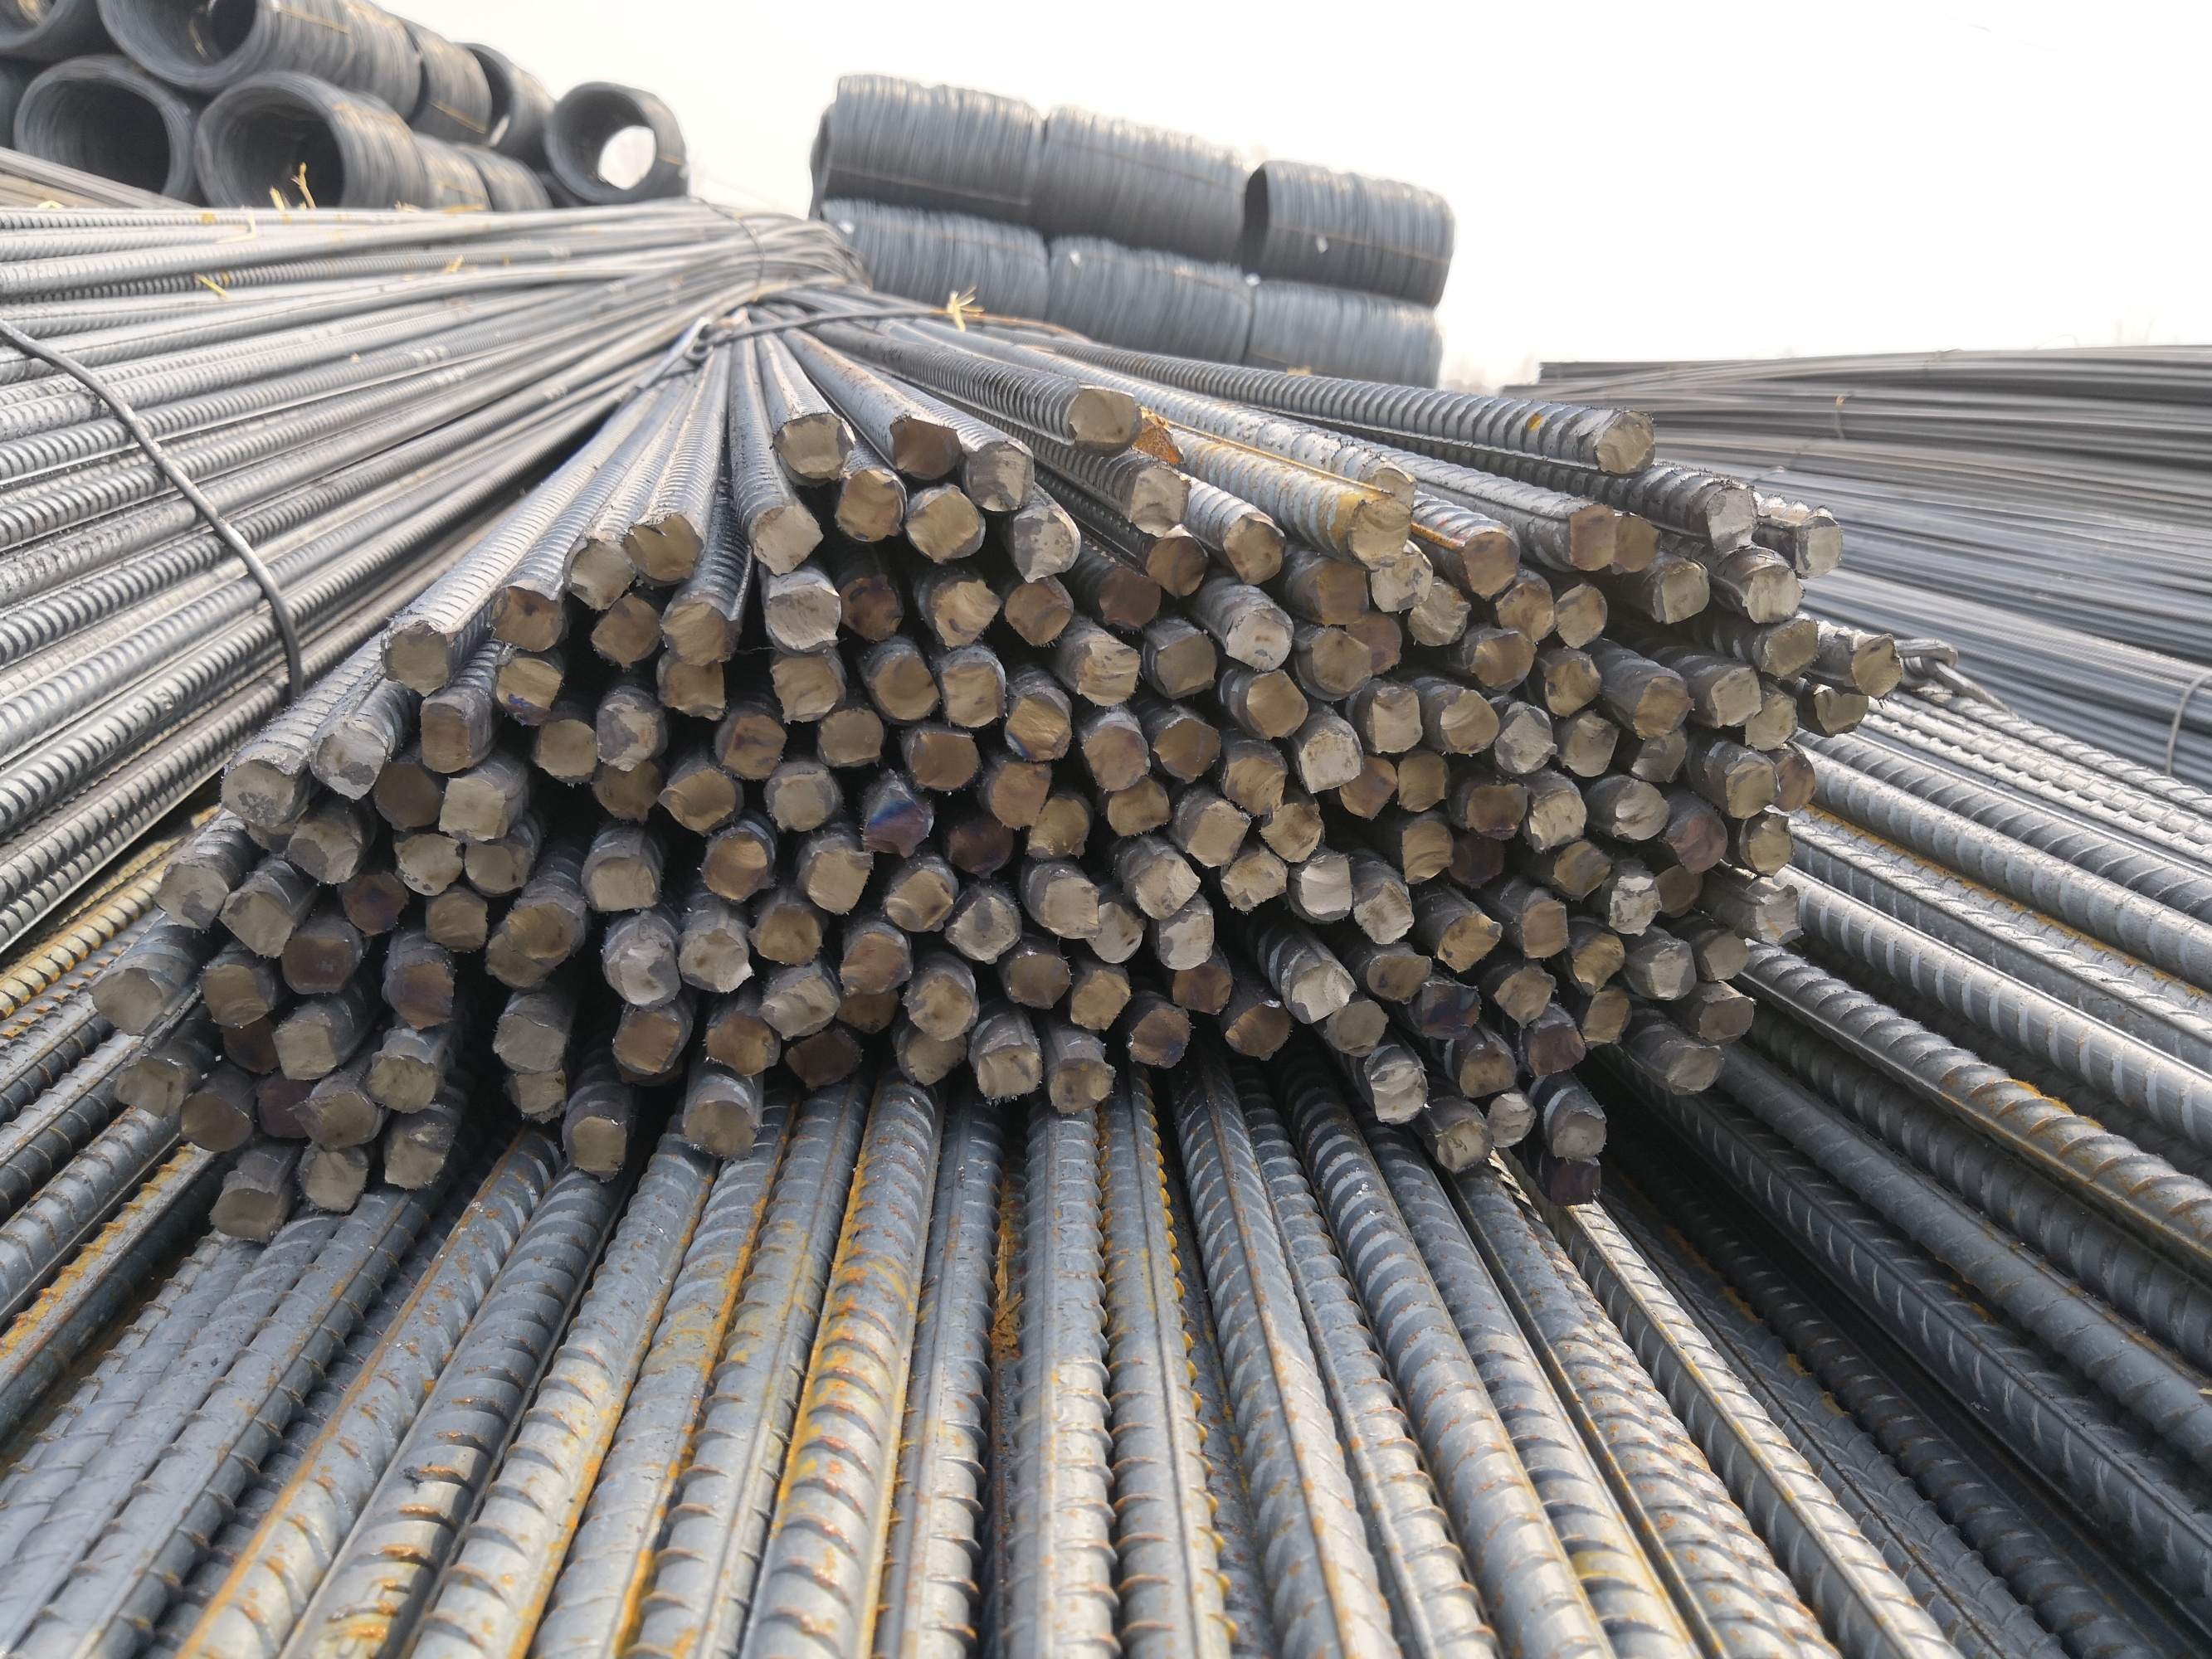rebar: (896, 476, 983, 566), (767, 408, 859, 484), (431, 769, 519, 847), (619, 509, 708, 587), (213, 756, 303, 833), (580, 589, 664, 671), (959, 430, 1041, 514), (943, 882, 1023, 967), (307, 720, 389, 802), (924, 570, 1006, 652), (483, 650, 567, 730), (556, 535, 640, 615), (762, 647, 845, 727), (596, 931, 682, 1009), (1145, 706, 1224, 791), (101, 1051, 193, 1122), (214, 882, 295, 964), (795, 838, 877, 918), (852, 779, 934, 859), (743, 502, 826, 580), (880, 408, 966, 484), (483, 580, 570, 655), (655, 594, 743, 669), (375, 615, 455, 695), (673, 920, 758, 995), (980, 746, 1055, 831), (84, 967, 171, 1040), (760, 584, 849, 655), (286, 1089, 382, 1155), (526, 713, 605, 793), (866, 645, 947, 723), (1063, 376, 1143, 455), (997, 570, 1077, 648), (1232, 664, 1313, 742), (1002, 504, 1079, 586), (499, 896, 582, 971), (485, 1007, 573, 1077), (150, 854, 228, 932), (880, 859, 959, 938), (997, 685, 1074, 765), (1123, 458, 1196, 542), (1121, 849, 1204, 922), (654, 765, 739, 836), (755, 974, 842, 1044), (1077, 716, 1154, 795), (833, 467, 906, 549), (936, 648, 1009, 730), (901, 725, 987, 795), (382, 955, 458, 1032), (940, 803, 1016, 880), (587, 753, 666, 828), (652, 645, 730, 720), (744, 901, 826, 972), (295, 1140, 370, 1216), (368, 758, 444, 833), (1302, 620, 1377, 697), (605, 1004, 683, 1077), (682, 1093, 760, 1166), (701, 1004, 779, 1077), (580, 849, 661, 920), (1215, 842, 1290, 917), (1625, 669, 1700, 744), (837, 925, 913, 999), (1072, 634, 1145, 711), (336, 866, 415, 938), (1149, 624, 1220, 702), (383, 1110, 451, 1192), (715, 709, 788, 784), (1178, 795, 1252, 870), (1356, 681, 1429, 756), (248, 1066, 319, 1143), (1403, 572, 1475, 648), (275, 929, 354, 999), (1063, 957, 1133, 1035), (1218, 992, 1297, 1061), (281, 821, 361, 889), (1220, 511, 1288, 591), (174, 1089, 256, 1155), (587, 697, 661, 770), (905, 965, 976, 1040), (1435, 901, 1506, 976), (195, 960, 272, 1030), (389, 829, 465, 899), (699, 835, 776, 904), (1023, 789, 1093, 866), (1344, 493, 1414, 570), (1752, 617, 1829, 687), (265, 1018, 343, 1086), (760, 765, 838, 833), (1142, 526, 1210, 605), (1218, 605, 1297, 673), (453, 831, 533, 897), (1044, 1047, 1117, 1119), (831, 573, 905, 645), (1093, 563, 1166, 634), (1292, 727, 1365, 798), (418, 889, 493, 958), (1126, 995, 1196, 1070), (1283, 958, 1358, 1028), (1302, 554, 1372, 629), (1454, 528, 1523, 603), (1459, 774, 1534, 843), (1492, 701, 1560, 777), (1098, 777, 1178, 842), (899, 1019, 969, 1093), (1150, 903, 1220, 976), (1435, 685, 1504, 758), (1391, 812, 1461, 885), (364, 1046, 439, 1114), (413, 695, 476, 775), (784, 1026, 865, 1089), (807, 709, 887, 772), (1487, 962, 1558, 1032), (1037, 870, 1105, 943), (1417, 974, 1485, 1047), (1360, 941, 1435, 1007), (1600, 864, 1665, 941), (974, 1033, 1044, 1103), (563, 1112, 631, 1183), (1222, 746, 1290, 817), (1253, 796, 1325, 864), (1002, 946, 1075, 1012), (1466, 627, 1539, 694), (1342, 605, 1405, 681), (1558, 498, 1621, 575), (202, 1187, 282, 1246), (1368, 547, 1438, 615), (1591, 408, 1659, 477), (1523, 784, 1590, 856), (1292, 850, 1356, 924), (1365, 1056, 1429, 1129), (1353, 877, 1417, 950), (1717, 748, 1780, 823), (1607, 777, 1673, 847), (1543, 840, 1614, 904), (483, 929, 556, 992), (1337, 748, 1398, 823), (1567, 922, 1628, 997), (1321, 995, 1389, 1061), (1386, 748, 1454, 814), (1537, 653, 1605, 720), (1696, 484, 1762, 552), (500, 1061, 570, 1126), (1081, 897, 1145, 967), (1557, 709, 1621, 779), (1745, 878, 1808, 950), (1645, 561, 1713, 626), (213, 1014, 282, 1077), (1740, 561, 1809, 624), (1496, 577, 1557, 648), (1548, 580, 1609, 652), (235, 805, 312, 861), (1522, 1019, 1588, 1084), (1166, 958, 1236, 1019), (1785, 512, 1846, 582), (1666, 809, 1731, 873), (1447, 828, 1510, 894), (1457, 1035, 1518, 1103), (1691, 985, 1759, 1046), (1429, 1117, 1501, 1175), (1849, 627, 1905, 699), (1663, 1035, 1727, 1096), (1741, 812, 1802, 877), (1539, 1150, 1607, 1208), (1361, 462, 1429, 519), (1605, 509, 1663, 577), (1581, 981, 1637, 1051), (1515, 897, 1574, 962), (1809, 681, 1876, 739), (1768, 744, 1822, 814), (1640, 939, 1700, 1002), (1133, 413, 1191, 477), (1630, 725, 1694, 782), (1706, 664, 1762, 730), (1487, 1087, 1541, 1155), (615, 1046, 685, 1096), (833, 983, 898, 1037), (1745, 687, 1799, 751), (1651, 861, 1706, 920), (1551, 1105, 1607, 1162), (1693, 929, 1752, 983)
